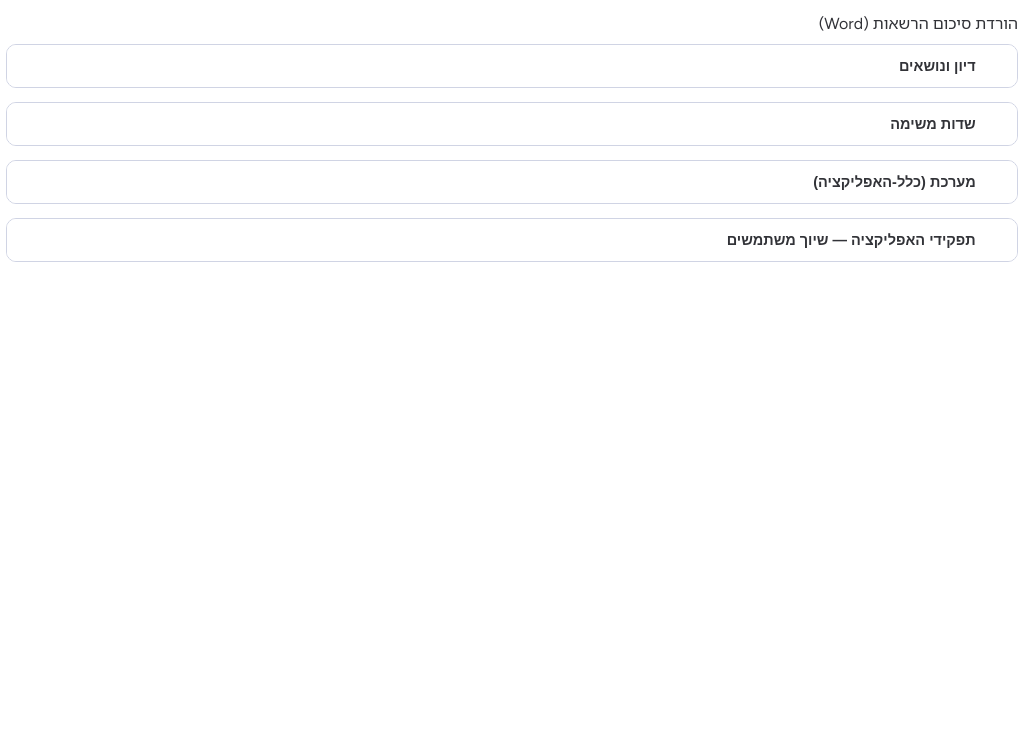
Test case: round332 — section chrome › still opens a matrix section by its (caption-less) title alone
This screenshot has width=1024, height=752.
Click the button "דיון ונושאים". click: (937, 66)
box: [7,45,1017,87]
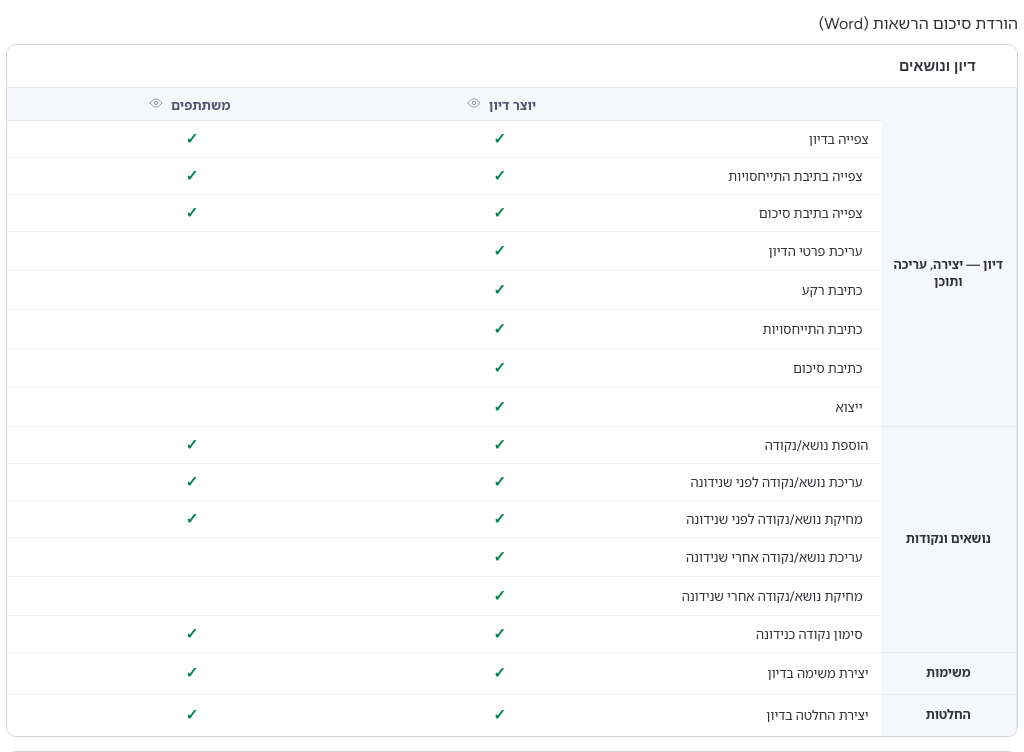
Expected: the text "צפייה בדיון" is shown, [640,121,880,158]
